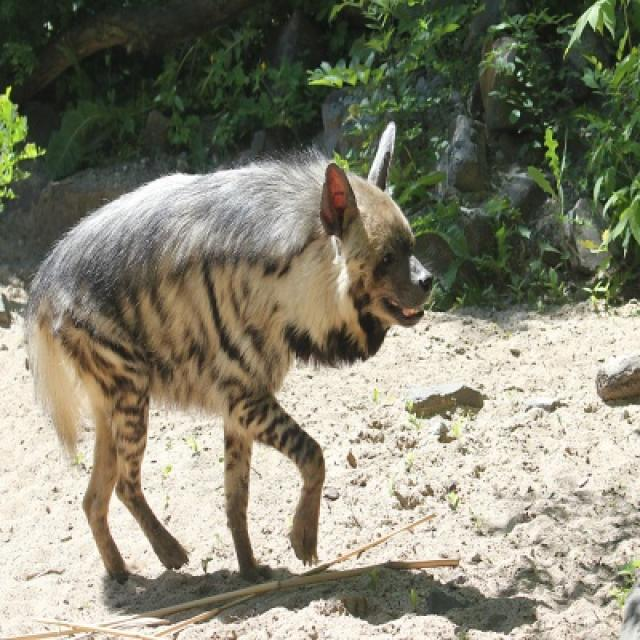hyena: (24, 149, 434, 590)
